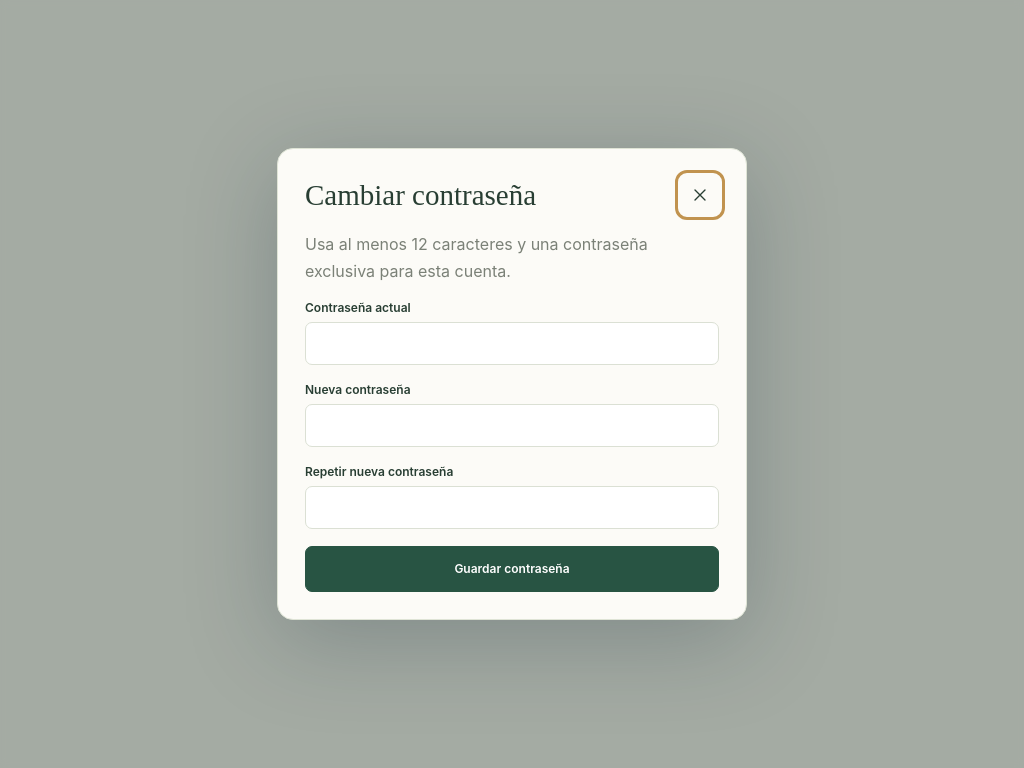
Test: public and private boundaries › never changes the password when current credentials are rejected
In the password field labelled "Contraseña actual": (512, 343) x1=305 y1=322 x2=719 y2=365, type "wrong-test-only"
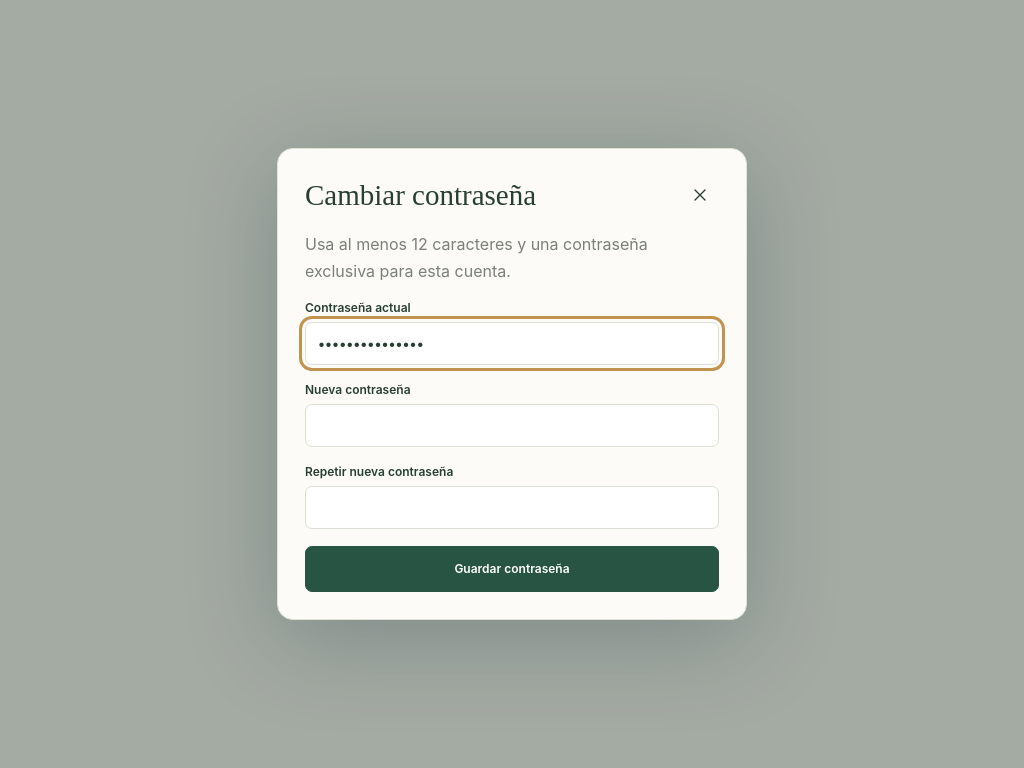
In the password field labelled "Nueva contraseña": (512, 425) x1=305 y1=404 x2=719 y2=447, type "new-test-only-strong"
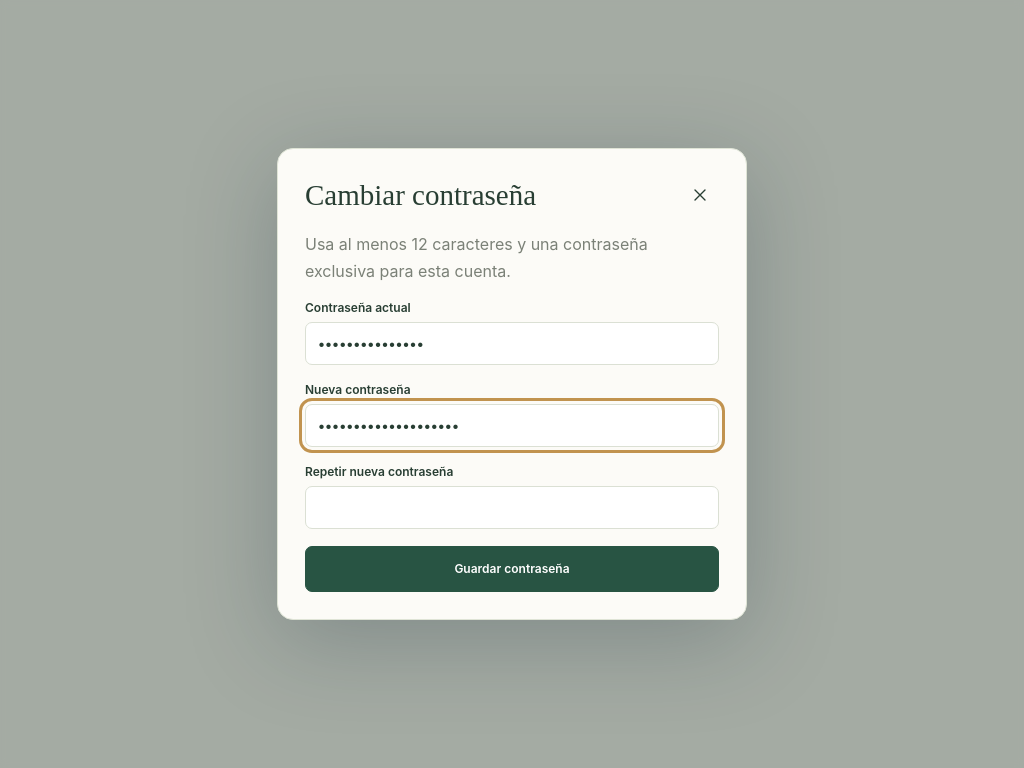
In the password field labelled "Repetir nueva contraseña": (512, 507) x1=305 y1=486 x2=719 y2=529, type "new-test-only-strong"
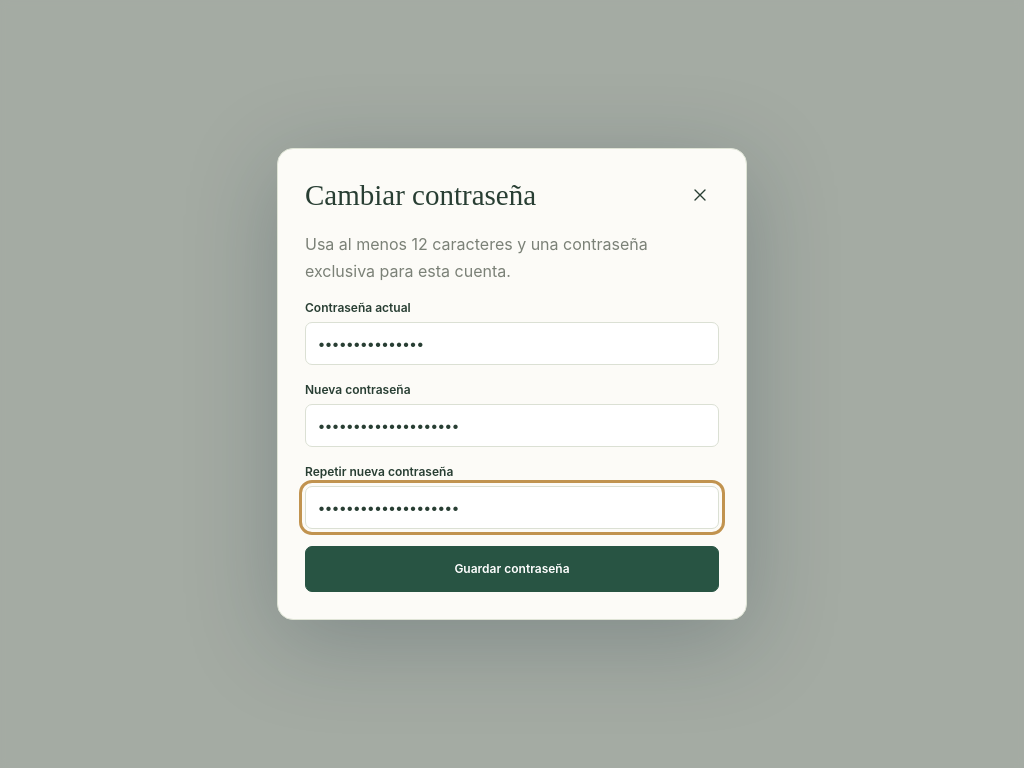
Click the button "Guardar contraseña": (512, 569) x1=305 y1=546 x2=719 y2=592
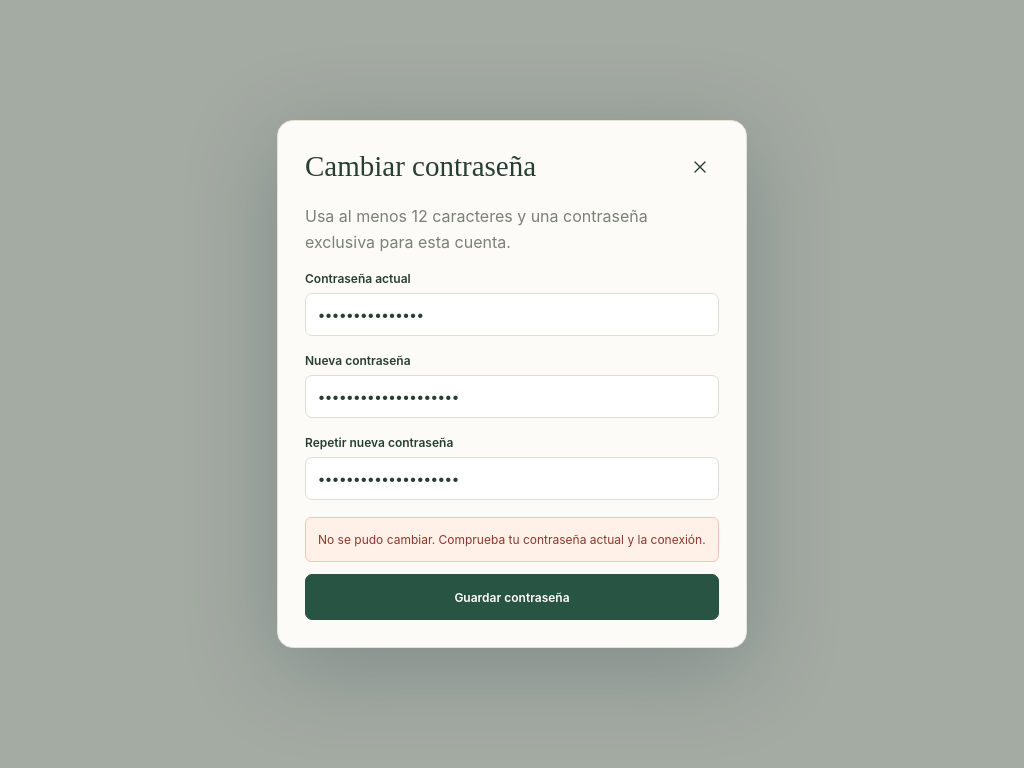
Expected: the message "No se pudo cambiar. Comprueba tu contraseña actual y la conexión." is shown, x1=305 y1=517 x2=719 y2=562
